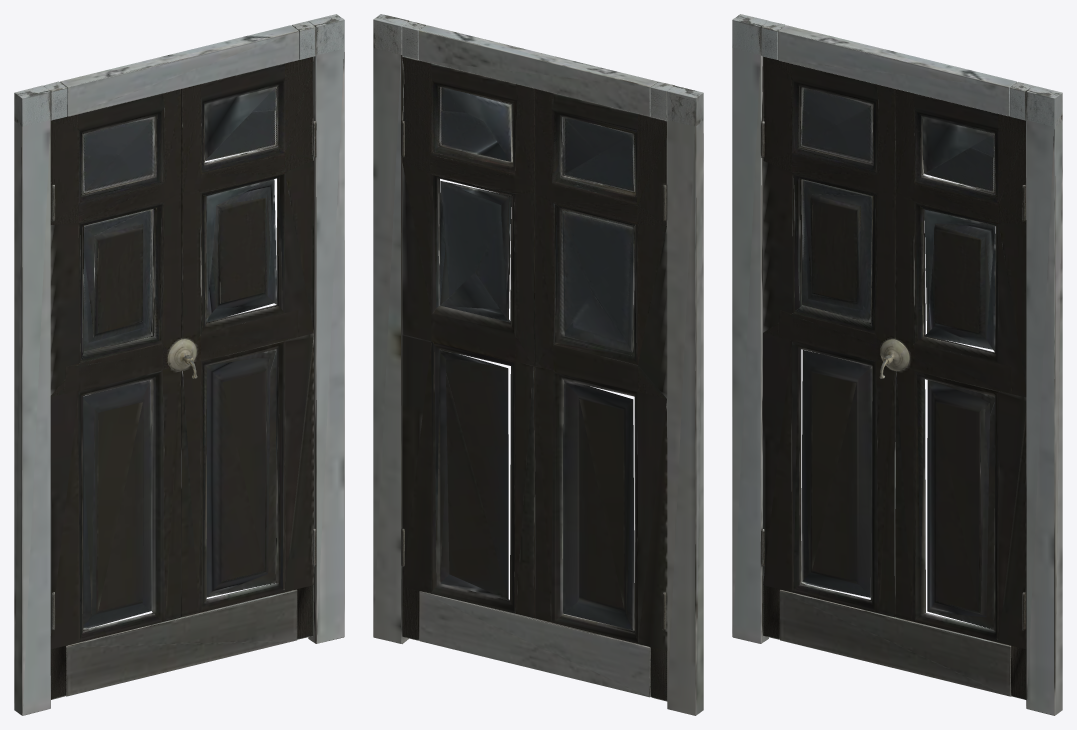
Rendered from front_door.glb.
3 renders of one model, left to right at view 1: azimuth 30°, elevation 25°; view 2: azimuth 150°, elevation 25°; view 3: azimuth 330°, elevation 25°, orthographic.
Size of the model in its own units: 0.52 by 0.9517 by 0.061.
Materials: 1 (1 with a texture image).
